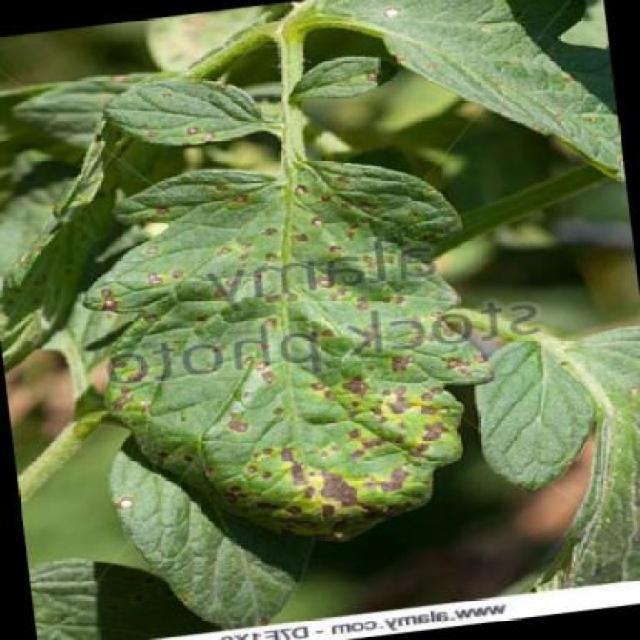Septoria leaf spot: (45, 134, 509, 577), (91, 57, 283, 174), (278, 40, 422, 117)
